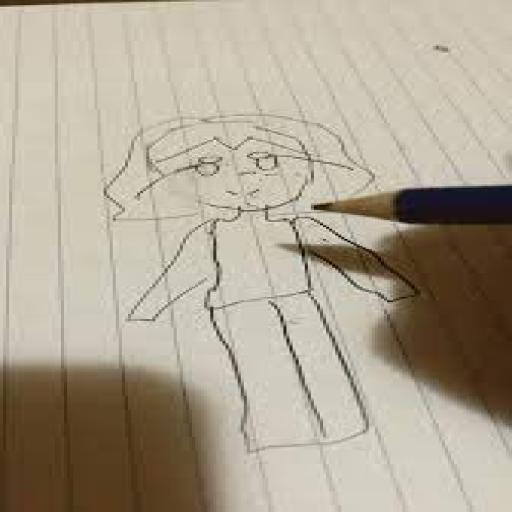person: (99, 108, 434, 455)
